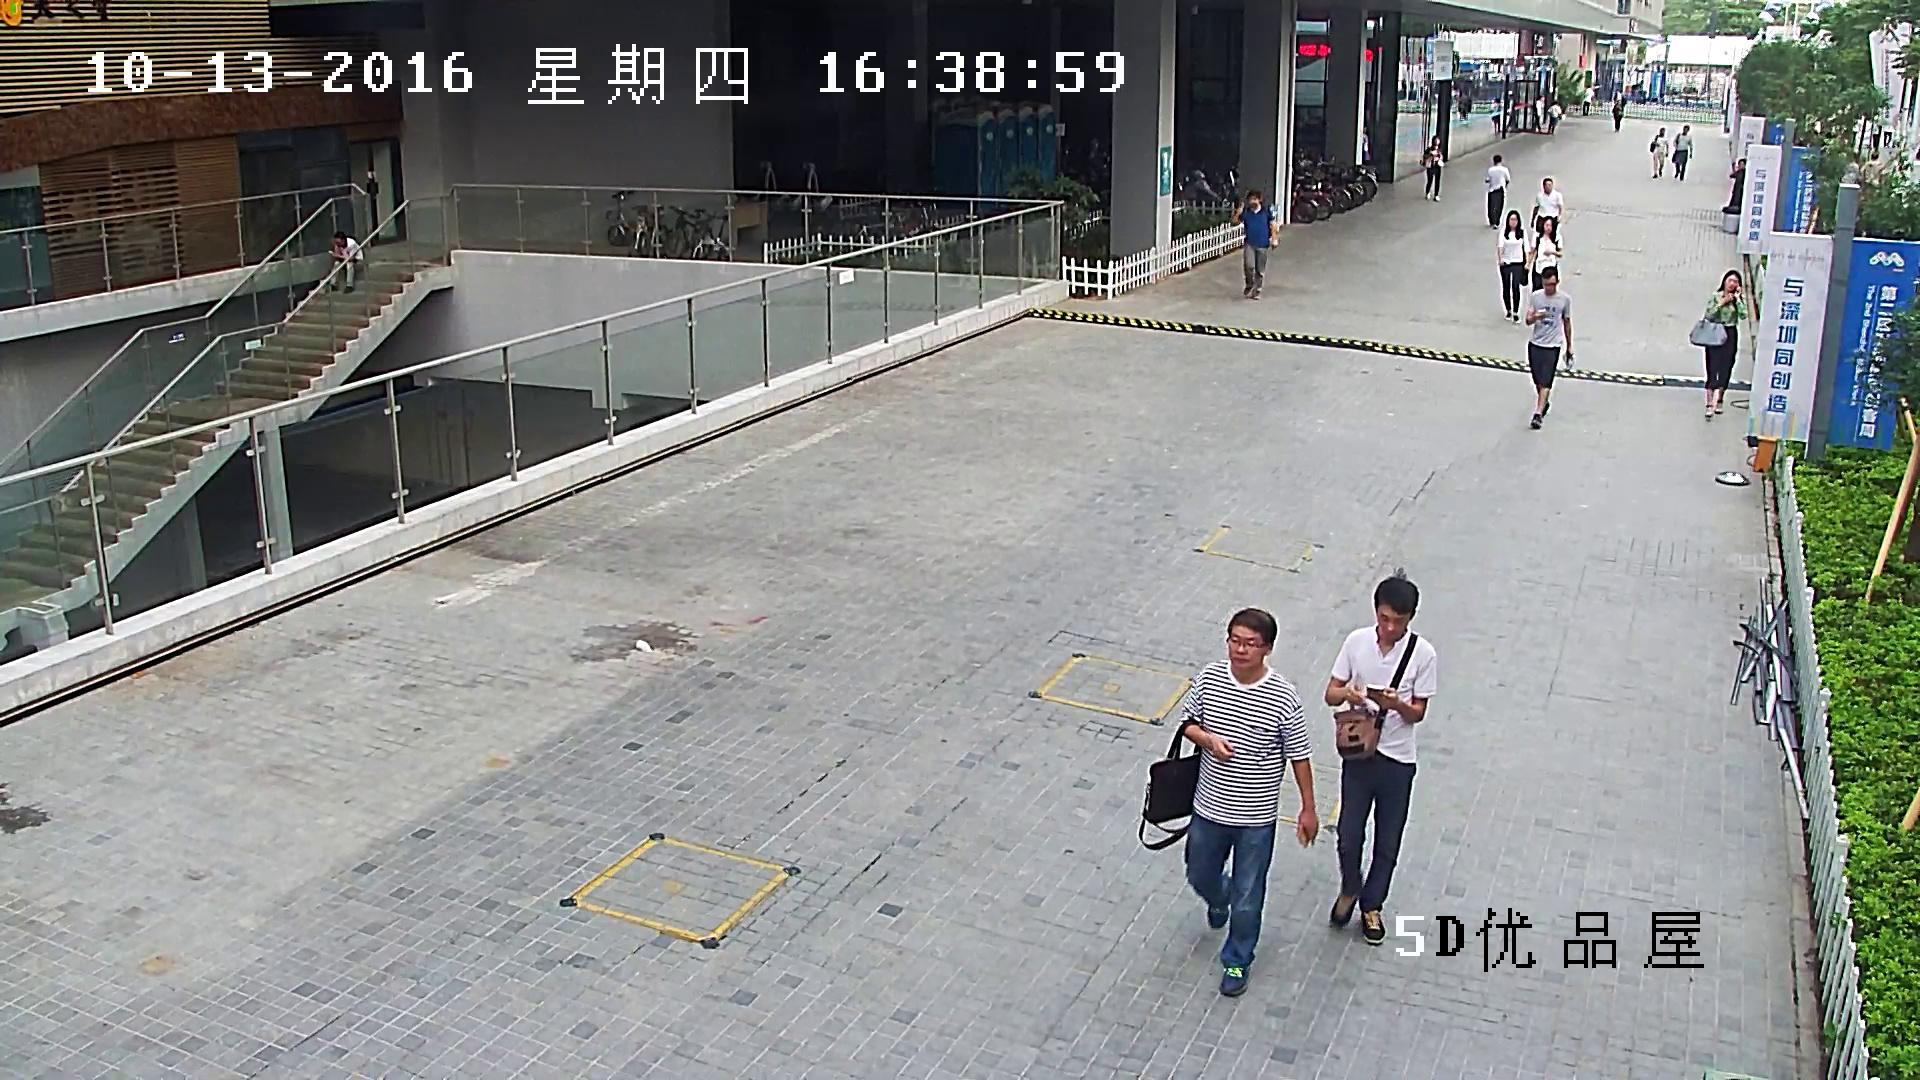person: (1138, 607, 1319, 996), (1324, 577, 1438, 942), (1689, 270, 1748, 417), (1525, 267, 1575, 427), (1231, 189, 1277, 299), (1496, 209, 1529, 322), (1530, 216, 1563, 291), (329, 231, 363, 294), (1485, 154, 1511, 228), (1531, 177, 1563, 232), (1422, 135, 1444, 201), (1672, 124, 1693, 180), (1650, 127, 1669, 178), (1728, 158, 1745, 204), (1612, 90, 1626, 133), (1547, 100, 1561, 134), (1582, 84, 1594, 114), (1492, 98, 1500, 133), (1533, 95, 1542, 133), (1884, 111, 1892, 146)
